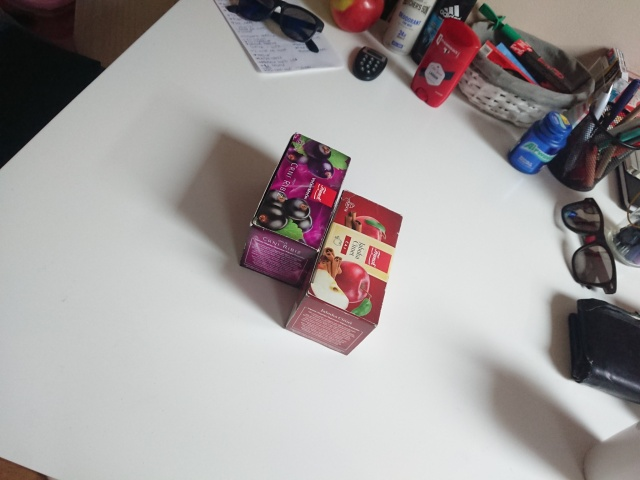Franck Apple Cinnamon Tea 60g: (281, 188, 405, 358)
Franck Black Currant Tea 60g: (236, 130, 354, 294)
